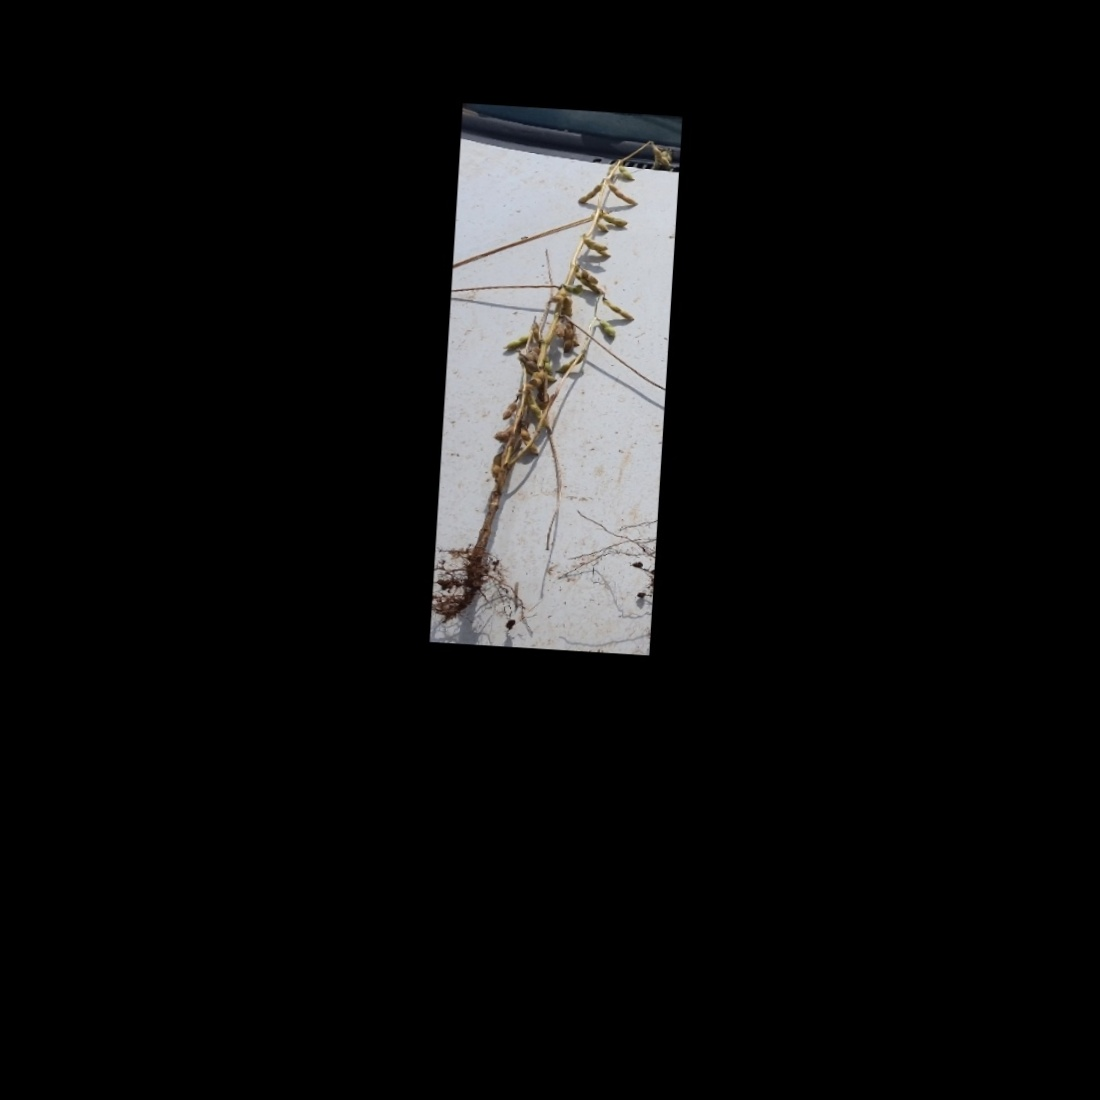pod: (603, 298, 636, 322), (606, 182, 638, 207), (501, 332, 532, 352), (576, 180, 599, 205), (496, 399, 517, 423), (599, 319, 618, 339), (602, 212, 629, 226), (618, 164, 636, 181), (595, 220, 611, 236)
soy: (445, 123, 679, 644)
